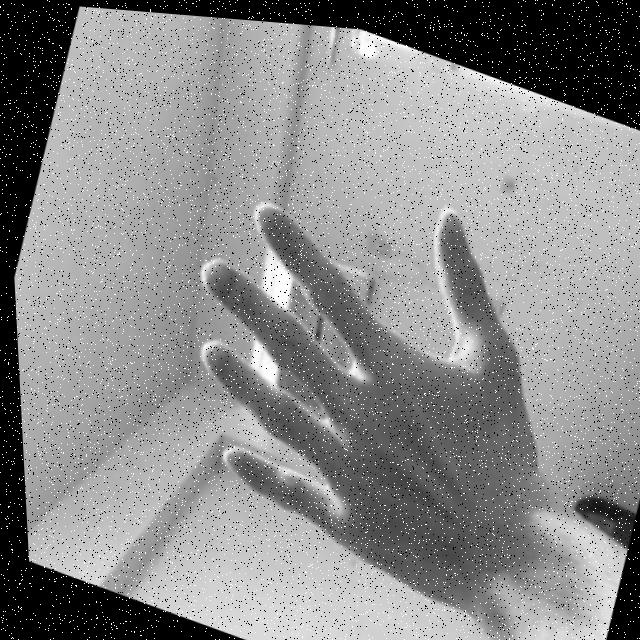hand: (124, 117, 598, 618)
